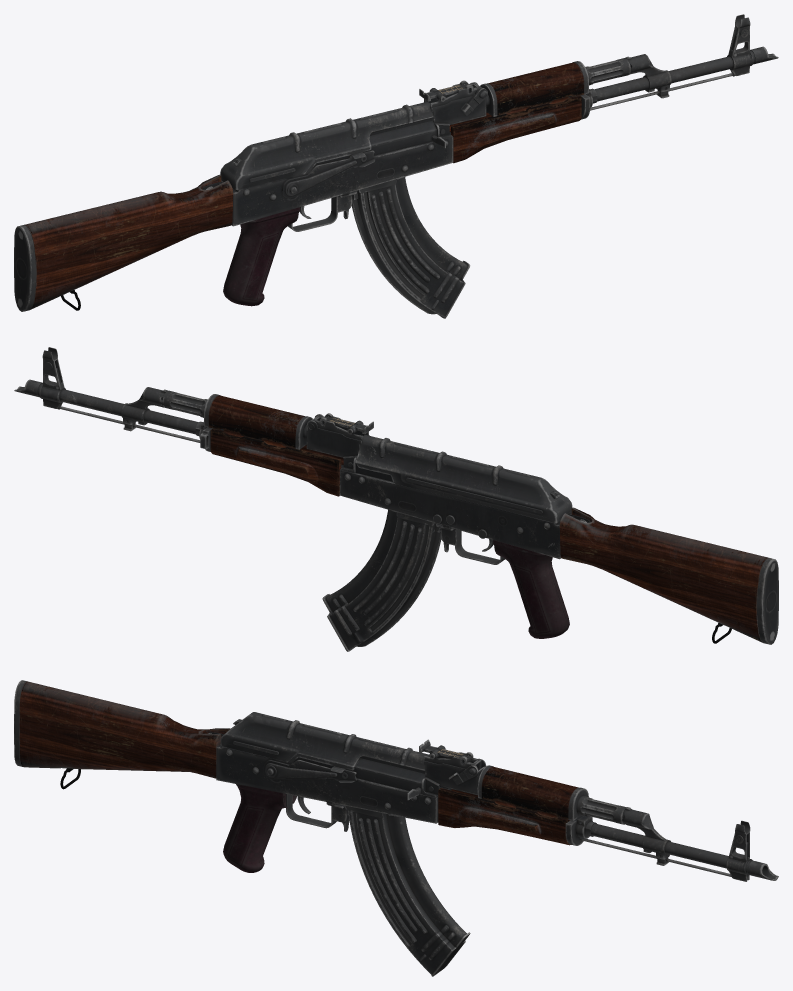
3 views of the same model, one above another, from view 1: azimuth 30°, elevation 25°; view 2: azimuth 150°, elevation 25°; view 3: azimuth 330°, elevation 25° (orthographic).
Visible parts, largest first — view 1: r_woodLower_low_Material_#44_0; view 2: r_woodLower_low_Material_#44_0; view 3: r_woodLower_low_Material_#44_0.
Part boxes in pixels (x1=…): r_woodLower_low_Material_#44_0: x1=14, y1=14, x2=778, y2=318; r_woodLower_low_Material_#44_0: x1=14, y1=347, x2=778, y2=651; r_woodLower_low_Material_#44_0: x1=14, y1=680, x2=778, y2=976.
Bounding box in the file's own units: 3.6 × 1.03 × 0.2546.
Materials: 1 (1 with a texture image).
